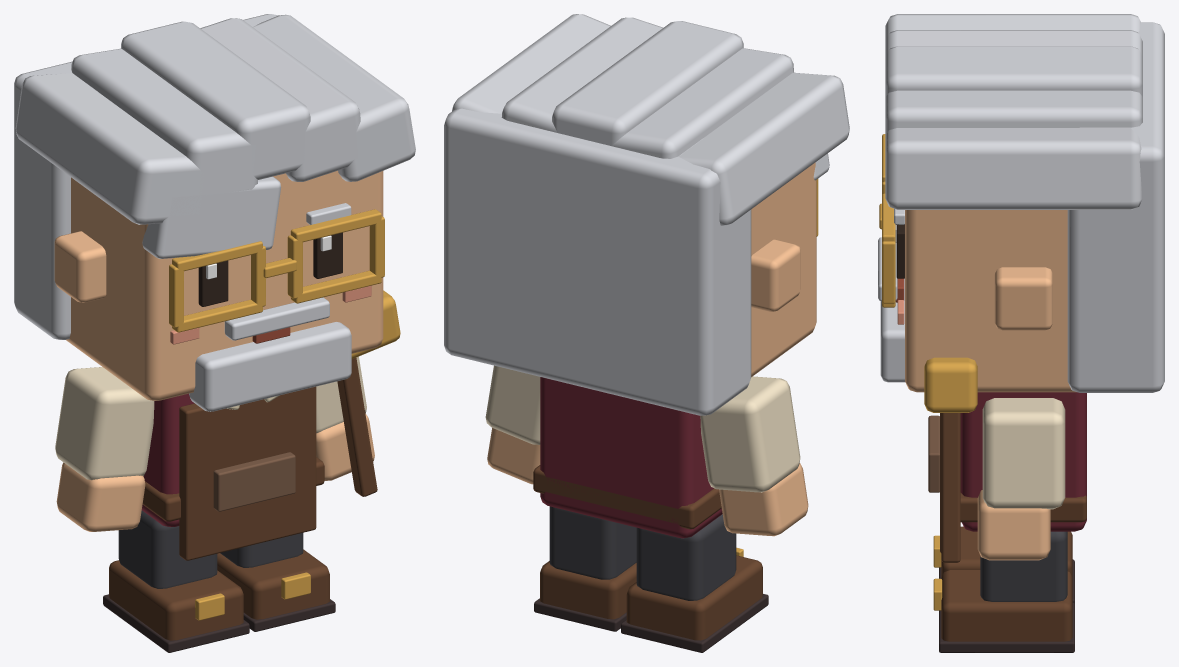
The model's file is NPC03_restore_artisan.glb.
3 views of the same model, side by side, from view 1: azimuth 30°, elevation 25°; view 2: azimuth 150°, elevation 25°; view 3: azimuth 270°, elevation 25° (orthographic). The views are drawn at different scales.
Parts seen in each view (by area): view 1: Face, Apron, HairLock, _MeshInstance3D_51, _MeshInstance3D_50, HairBack, Beard, Sleeve, _MeshInstance3D_53, _MeshInstance3D_52, Fringe, Boot (+28 smaller); view 2: HairBack, Jacket, HairLock, _MeshInstance3D_51, Sleeve, _MeshInstance3D_50, Face, Trousers, _MeshInstance3D_52, Boot, _MeshInstance3D_53, Trousers2 (+8 smaller); view 3: Face, HairBack, _MeshInstance3D_53, _MeshInstance3D_51, _MeshInstance3D_52, Sleeve2, Boot2, Jacket, _MeshInstance3D_50, Trousers2, HairLock, Hand2 (+11 smaller).
Part boxes in pixels (bbox=[...]): Face: bbox=[66, 170, 383, 400]; Apron: bbox=[179, 386, 316, 560]; HairLock: bbox=[15, 73, 205, 224]; _MeshInstance3D_51: bbox=[121, 21, 310, 179]; _MeshInstance3D_50: bbox=[71, 48, 257, 195]; HairBack: bbox=[14, 14, 278, 339]; Beard: bbox=[189, 322, 351, 411]; Sleeve: bbox=[55, 367, 154, 480]; _MeshInstance3D_53: bbox=[253, 14, 415, 181]; _MeshInstance3D_52: bbox=[200, 18, 360, 181]; Fringe: bbox=[142, 176, 281, 258]; Boot: bbox=[109, 560, 243, 640]; HairBack: bbox=[444, 108, 751, 415]; Jacket: bbox=[540, 377, 722, 538]; HairLock: bbox=[679, 72, 849, 225]; _MeshInstance3D_51: bbox=[552, 21, 743, 145]; Sleeve: bbox=[700, 376, 800, 492]; _MeshInstance3D_50: bbox=[611, 48, 793, 158]; Face: bbox=[751, 162, 816, 376]; Trousers: bbox=[636, 514, 736, 600]; _MeshInstance3D_52: bbox=[501, 17, 662, 132]; Boot: bbox=[626, 555, 762, 640]; _MeshInstance3D_53: bbox=[452, 14, 610, 113]; Trousers2: bbox=[549, 506, 636, 579]; Face: bbox=[905, 210, 1076, 392]; HairBack: bbox=[1067, 22, 1164, 392]; _MeshInstance3D_53: bbox=[885, 128, 1142, 209]; _MeshInstance3D_51: bbox=[885, 46, 1142, 96]; _MeshInstance3D_52: bbox=[885, 90, 1142, 135]; Sleeve2: bbox=[982, 398, 1065, 509]; Boot2: bbox=[941, 570, 1072, 641]; Jacket: bbox=[960, 392, 1086, 531]; _MeshInstance3D_50: bbox=[885, 30, 1142, 57]; Trousers2: bbox=[980, 531, 1067, 601]; HairLock: bbox=[885, 14, 1140, 41]; Hand2: bbox=[977, 490, 1050, 560].
Size of the model in its own units: 0.7116 by 1.25 by 0.59.
